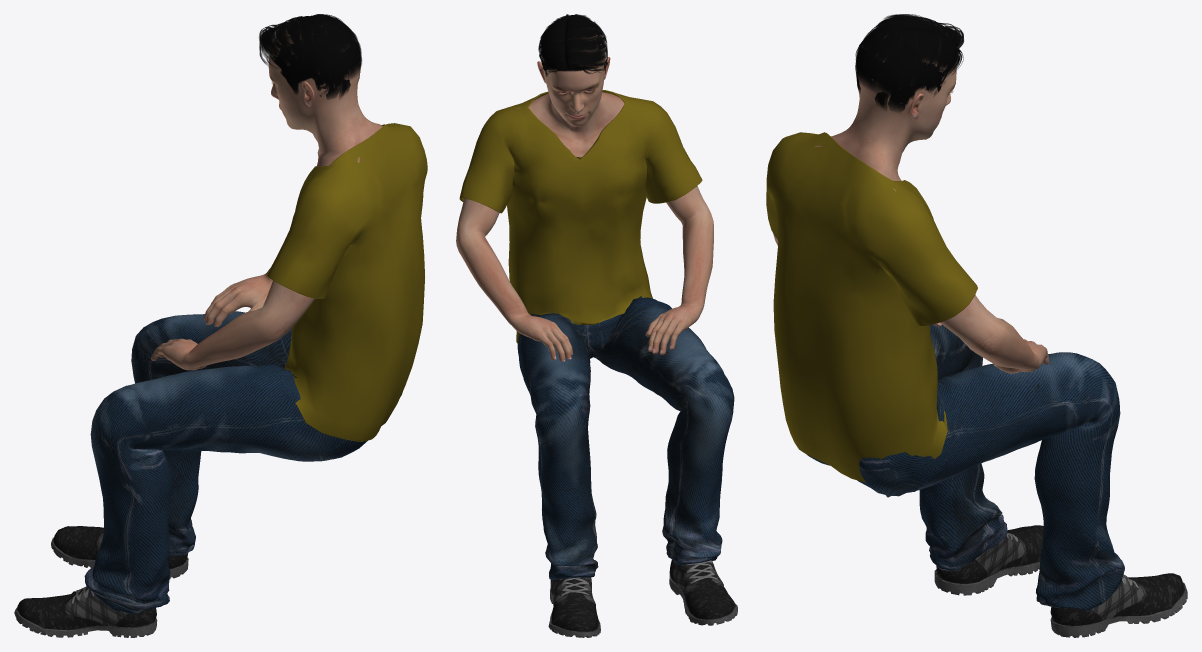
3 views of the same model, side by side, from view 1: azimuth 30°, elevation 25°; view 2: azimuth 150°, elevation 25°; view 3: azimuth 270°, elevation 25° (orthographic). The views are drawn at different scales.
Parts seen in each view (by area): view 1: Jeans, V_Neck_Scrub_Shirt, CC_Base_Body, Boots, Hair; view 2: V_Neck_Scrub_Shirt, Jeans, CC_Base_Body, Boots, Hair; view 3: V_Neck_Scrub_Shirt, Jeans, CC_Base_Body, Boots, Hair.
Part boxes in pixels (box(x1,y1,x2,y2)): Jeans: box(84, 311, 402, 614); V_Neck_Scrub_Shirt: box(267, 123, 427, 441); CC_Base_Body: box(151, 30, 382, 370); Boots: box(14, 526, 188, 637); Hair: box(259, 14, 361, 99); V_Neck_Scrub_Shirt: box(459, 90, 702, 343); Jeans: box(517, 296, 734, 579); CC_Base_Body: box(456, 35, 713, 361); Boots: box(548, 559, 737, 637); Hair: box(538, 14, 607, 76); V_Neck_Scrub_Shirt: box(766, 132, 977, 482); Jeans: box(807, 324, 1124, 609); CC_Base_Body: box(773, 60, 1048, 373); Boots: box(934, 525, 1187, 637); Hair: box(855, 14, 963, 112).
Size of the model in its own units: 0.8823 by 1.45 by 0.847.
Materials: 15 (13 with a texture image).
